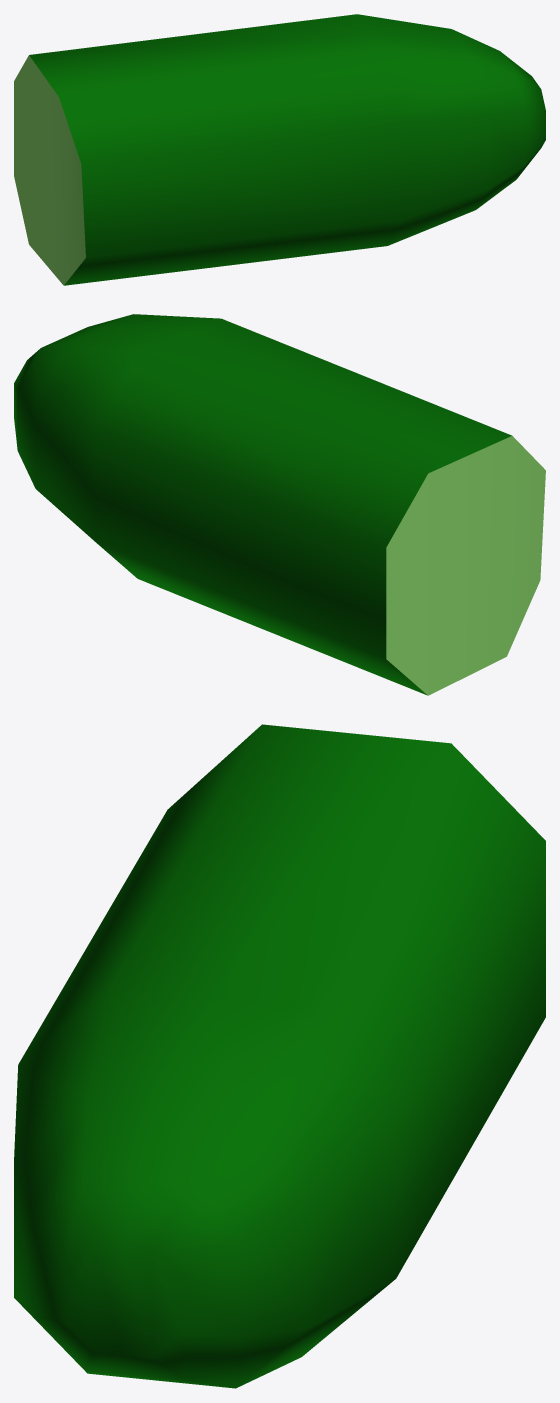
The model's file is mesh_Cucumber_Stage09.fbx.
3 renders of one model, top to bottom at view 1: azimuth 30°, elevation 25°; view 2: azimuth 150°, elevation 25°; view 3: azimuth 270°, elevation 25°, orthographic. The views are drawn at different scales.
Parts seen in each view (by area): view 1: mesh_Cucumber_Stage09; view 2: mesh_Cucumber_Stage09; view 3: mesh_Cucumber_Stage09.
Part boxes in pixels (left/top/right/bottom): mesh_Cucumber_Stage09: left=14, top=14, right=545, bottom=285; mesh_Cucumber_Stage09: left=14, top=314, right=545, bottom=695; mesh_Cucumber_Stage09: left=14, top=724, right=545, bottom=1388.
Bounding box in the file's own units: 0.091 × 0.0367 × 0.0501.
